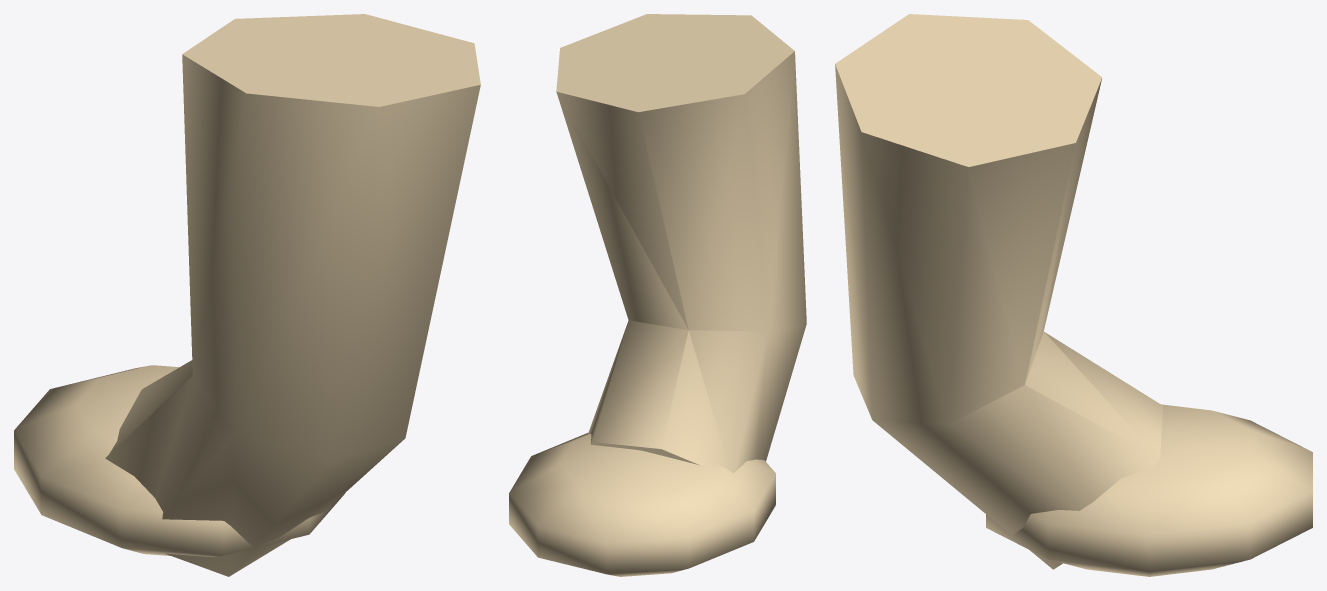
File: gorehulk_f_leg_-1.obj
3 views of the same model, side by side, from view 1: azimuth 30°, elevation 25°; view 2: azimuth 150°, elevation 25°; view 3: azimuth 270°, elevation 25° (orthographic). The views are drawn at different scales.
Parts seen in each view (by area): view 1: source_component_000, source_component_001; view 2: source_component_000, source_component_001; view 3: source_component_000, source_component_001.
Part boxes in pixels (x1,y1,x2,y2): source_component_000: (105, 14, 480, 576); source_component_001: (14, 365, 345, 557); source_component_000: (556, 14, 806, 473); source_component_001: (509, 433, 775, 576); source_component_000: (835, 14, 1162, 569); source_component_001: (986, 404, 1312, 576).
Size of the model in its own units: 0.3638 by 0.5594 by 0.4759.
